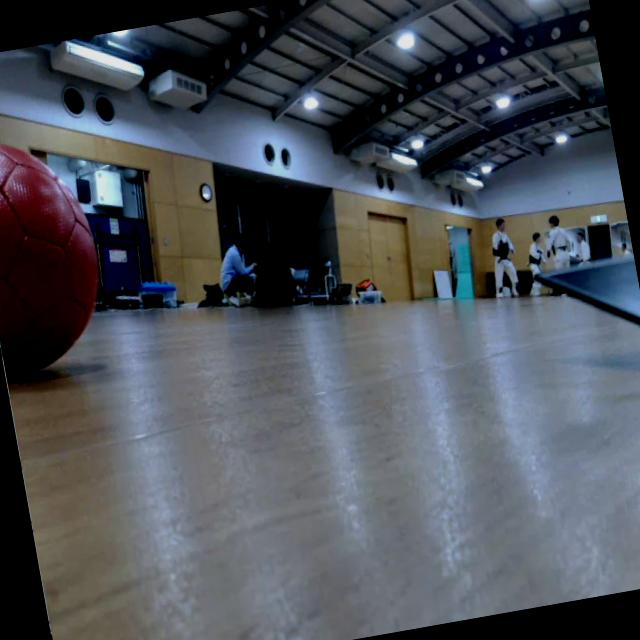red_ball: (0, 122, 114, 372)
